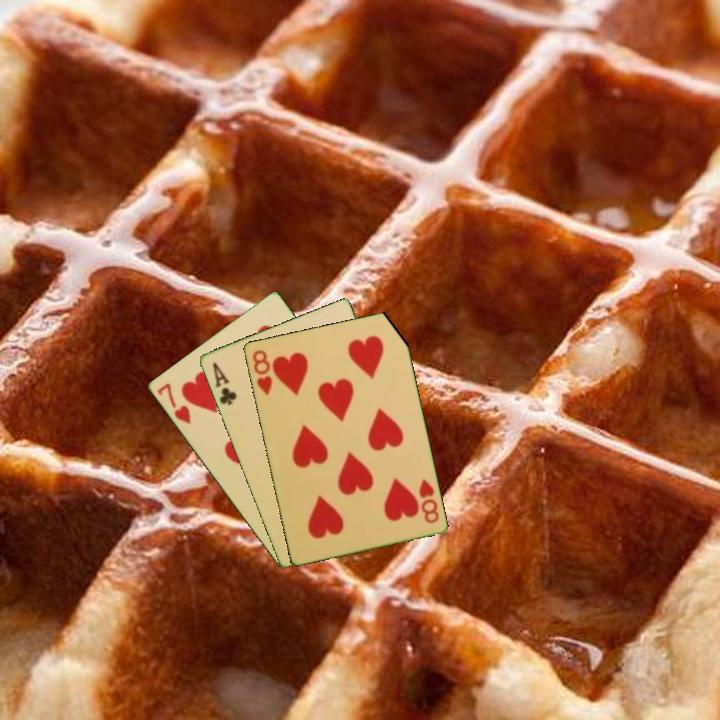7h: (153, 379, 194, 427)
8h: (248, 346, 275, 398), (415, 475, 441, 526)
Ac: (209, 358, 239, 408)
